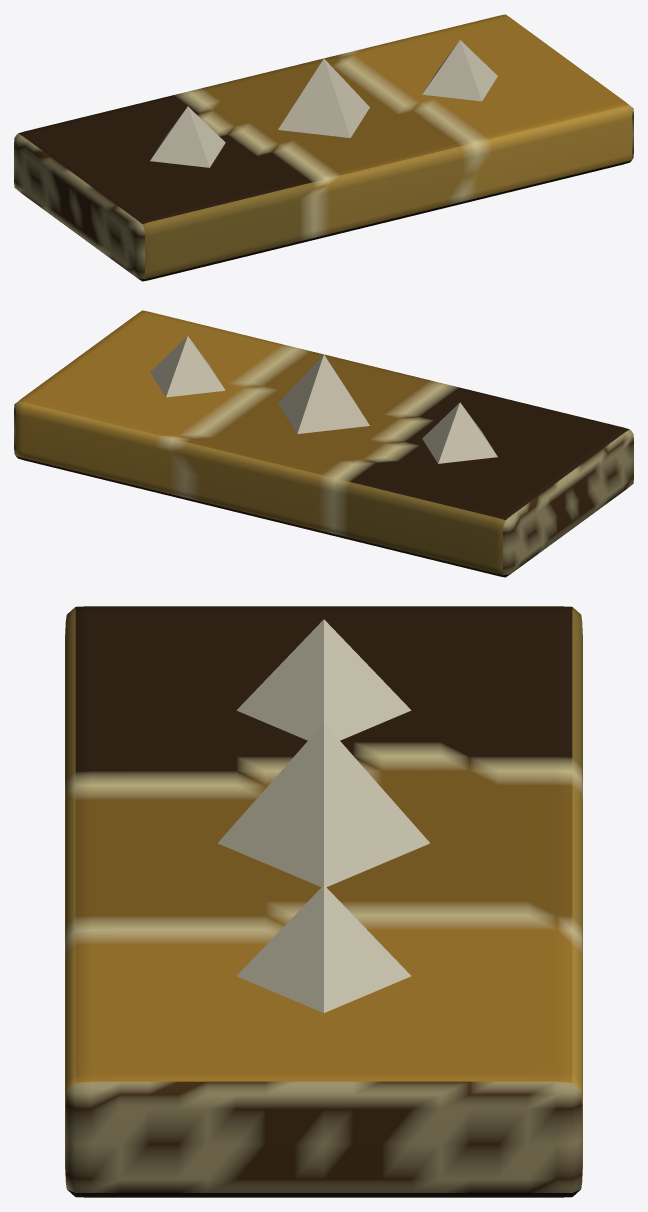
The model's file is Plank_Infinity.glb.
3 views of the same model, one above another, from view 1: azimuth 30°, elevation 25°; view 2: azimuth 150°, elevation 25°; view 3: azimuth 270°, elevation 25° (orthographic). The views are drawn at different scales.
Parts seen in each view (by area): view 1: Plank_infinity; view 2: Plank_infinity; view 3: Plank_infinity.
Part boxes in pixels (bbox=[...]): Plank_infinity: bbox=[14, 14, 633, 281]; Plank_infinity: bbox=[14, 310, 633, 577]; Plank_infinity: bbox=[65, 606, 582, 1197].
Size of the model in its own units: 1.24 by 0.284 by 0.56.
